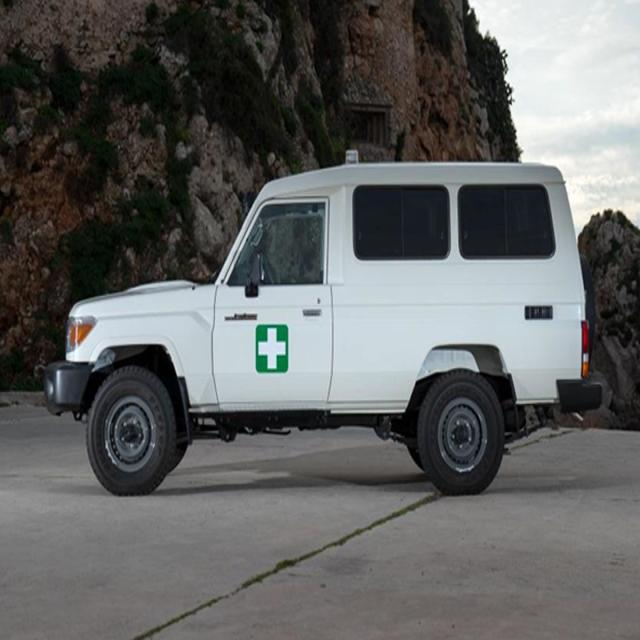light_vehicle: (43, 155, 606, 521)
